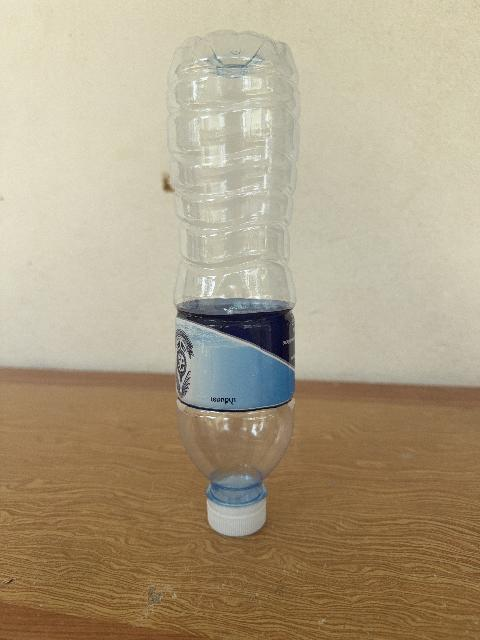bottle: (167, 31, 299, 535)
